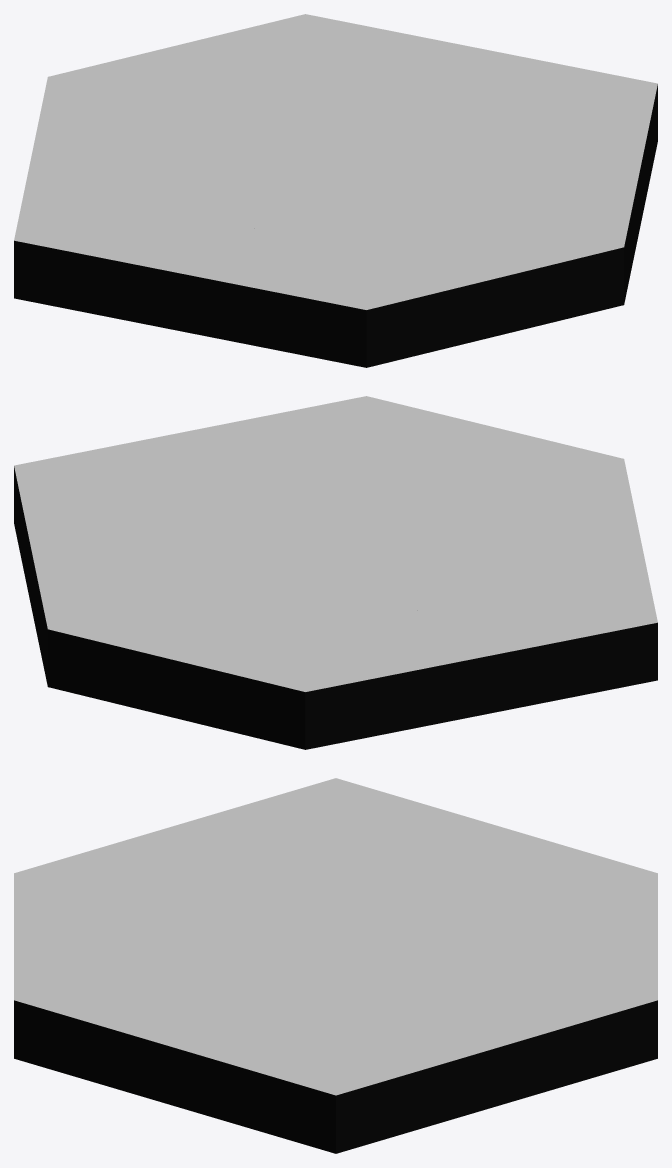
File: texhex2.dae
3 renders of one model, top to bottom at view 1: azimuth 30°, elevation 25°; view 2: azimuth 150°, elevation 25°; view 3: azimuth 270°, elevation 25°, orthographic.
Visible parts, largest first — view 1: Hexagon; view 2: Hexagon; view 3: Hexagon.
Boxes of the visible parts, left/top/right/bottom form: Hexagon: left=14, top=14, right=657, bottom=367; Hexagon: left=14, top=396, right=657, bottom=749; Hexagon: left=14, top=778, right=657, bottom=1153.
Size of the model in its own units: 2.33 by 2 by 0.2.
